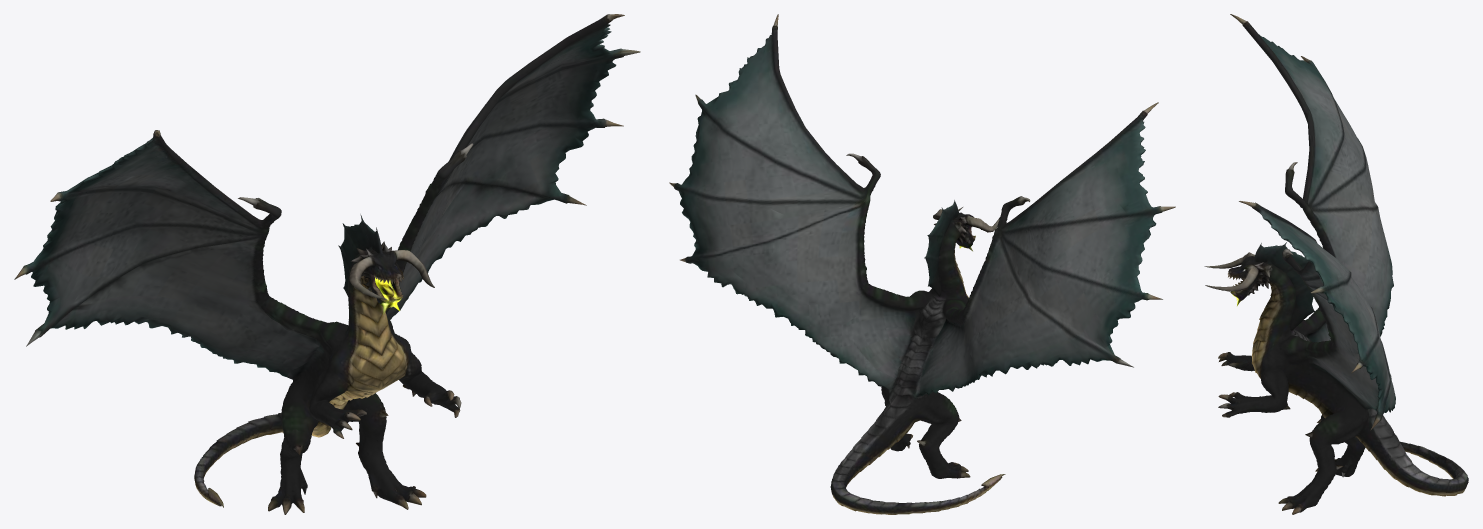
File: MZ4250 - Dragon Black Ancient.glb
3 views of the same model, side by side, from view 1: azimuth 30°, elevation 25°; view 2: azimuth 150°, elevation 25°; view 3: azimuth 270°, elevation 25° (orthographic). The views are drawn at different scales.
Visible parts, largest first — view 1: Black Dragon Ancient Terrestrial.001; view 2: Black Dragon Ancient Terrestrial.001; view 3: Black Dragon Ancient Terrestrial.001.
Boxes of the visible parts, x1,y1,x2,y2 form: Black Dragon Ancient Terrestrial.001: (14, 14, 640, 514); Black Dragon Ancient Terrestrial.001: (669, 14, 1175, 514); Black Dragon Ancient Terrestrial.001: (1204, 14, 1468, 514).
Bounding box in the file's own units: 316 × 229 × 144.
1 material, 1 textured.
